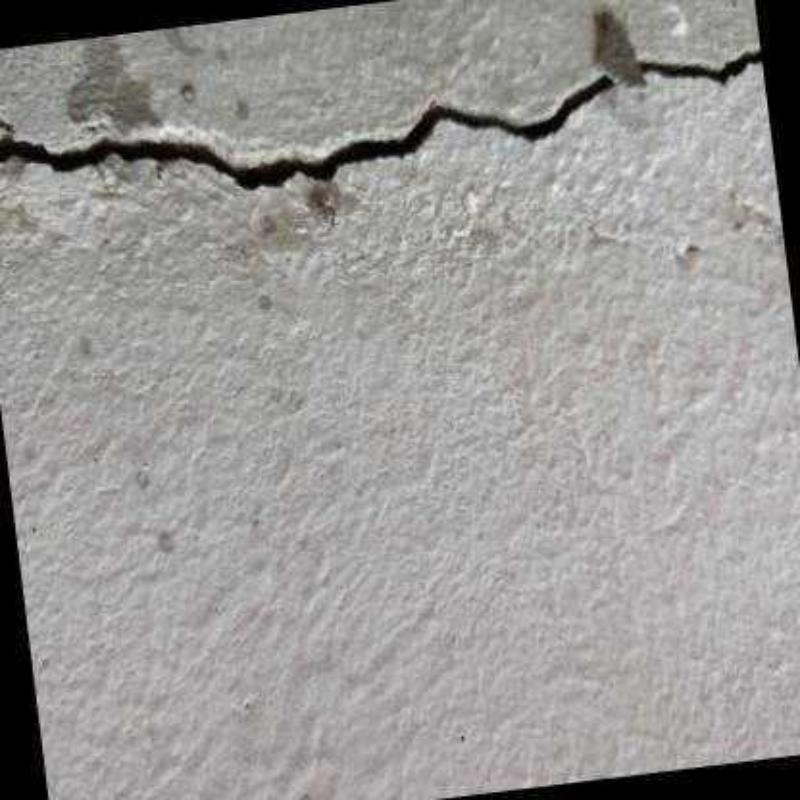pothole: (0, 13, 761, 191)
